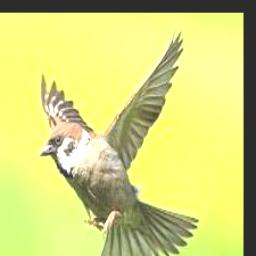Sparrow: (40, 28, 199, 256)
